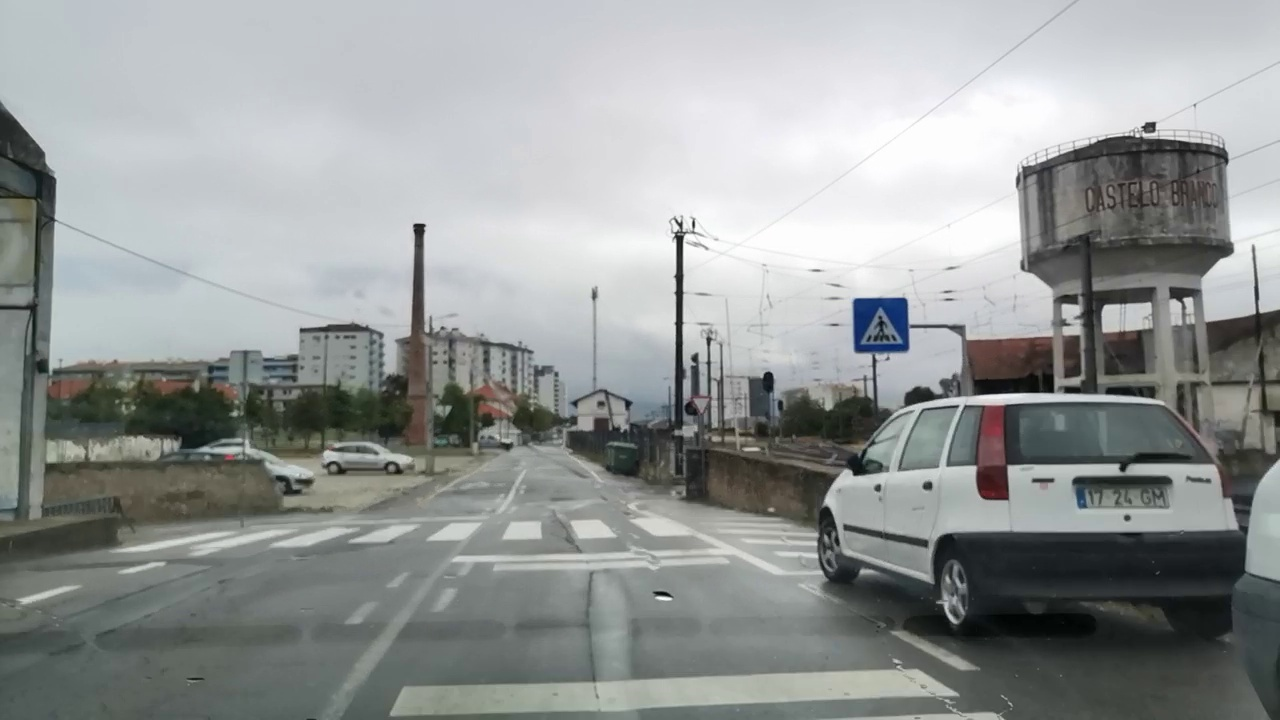Stairs: (114, 514, 693, 555)
